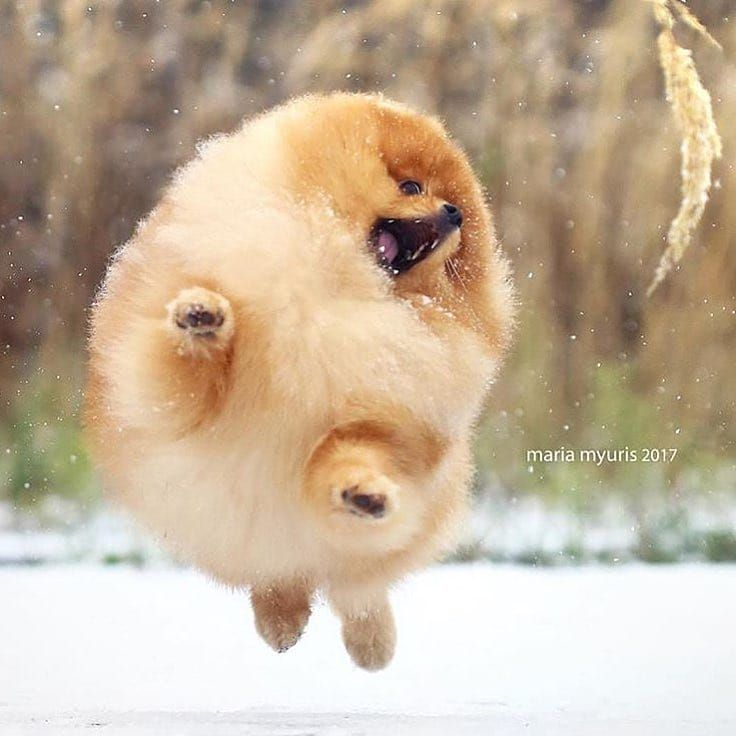pomeranian: (76, 84, 552, 691)
